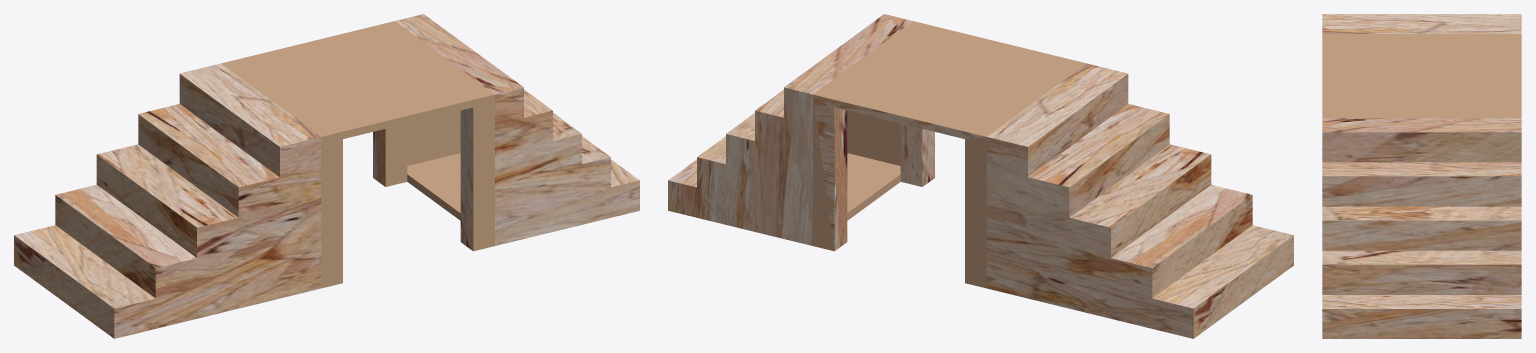
3 renders of one model, left to right at view 1: azimuth 30°, elevation 25°; view 2: azimuth 150°, elevation 25°; view 3: azimuth 270°, elevation 25°, orthographic.
Parts seen in each view (by area): view 1: base_link; view 2: base_link; view 3: base_link.
Part boxes in pixels (x1,y1,x2,y2): base_link: [14, 14, 639, 338]; base_link: [668, 14, 1293, 338]; base_link: [1322, 14, 1521, 338].
Bounding box in the file's own units: 3.63 × 1.2 × 1.
Materials: 1 (1 with a texture image).
